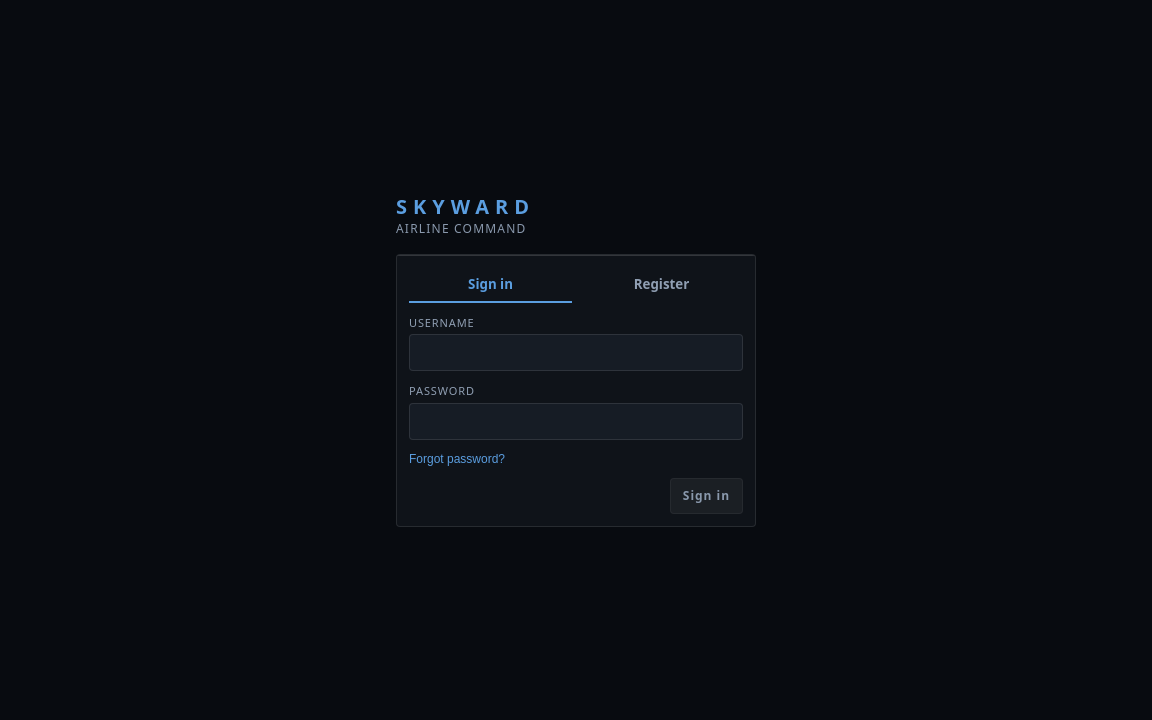
halaman login — dialog reset password › mengirim lima field API dan melaporkan sukses sebagai status
Step 1. Click the button "Forgot password?" → (457, 459), box [409,452,505,466]
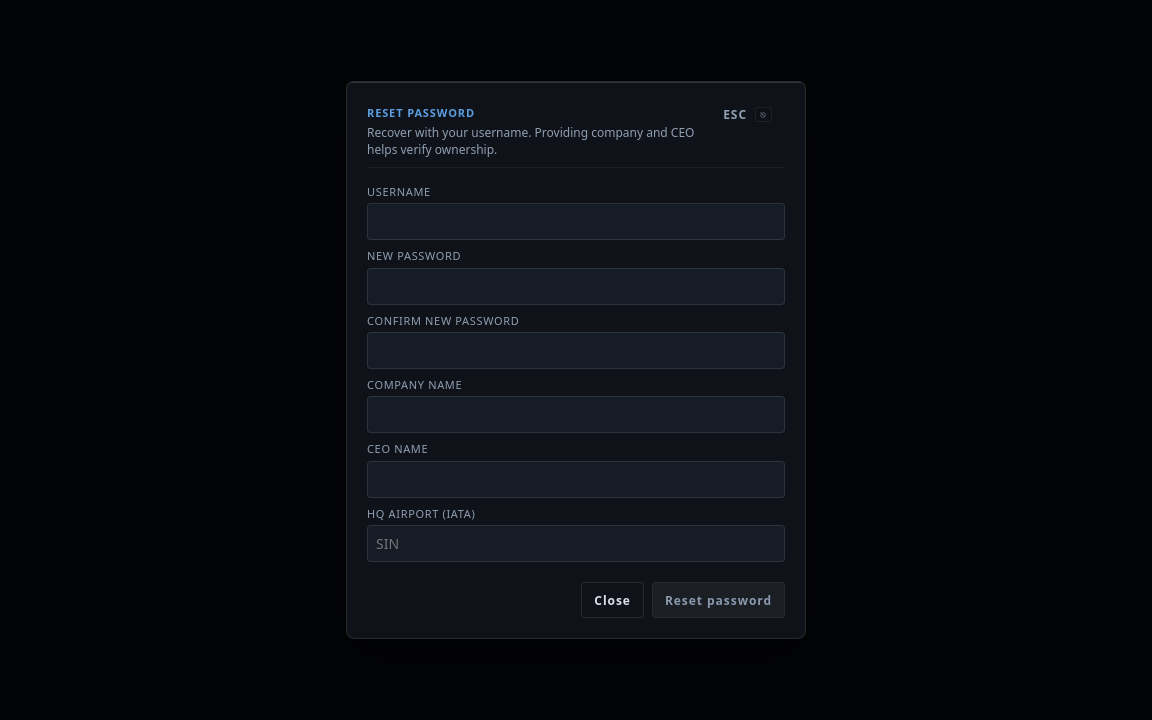
Step 2. Type "pilot" into the field labelled "Username" → (576, 222), box [367,203,785,240]
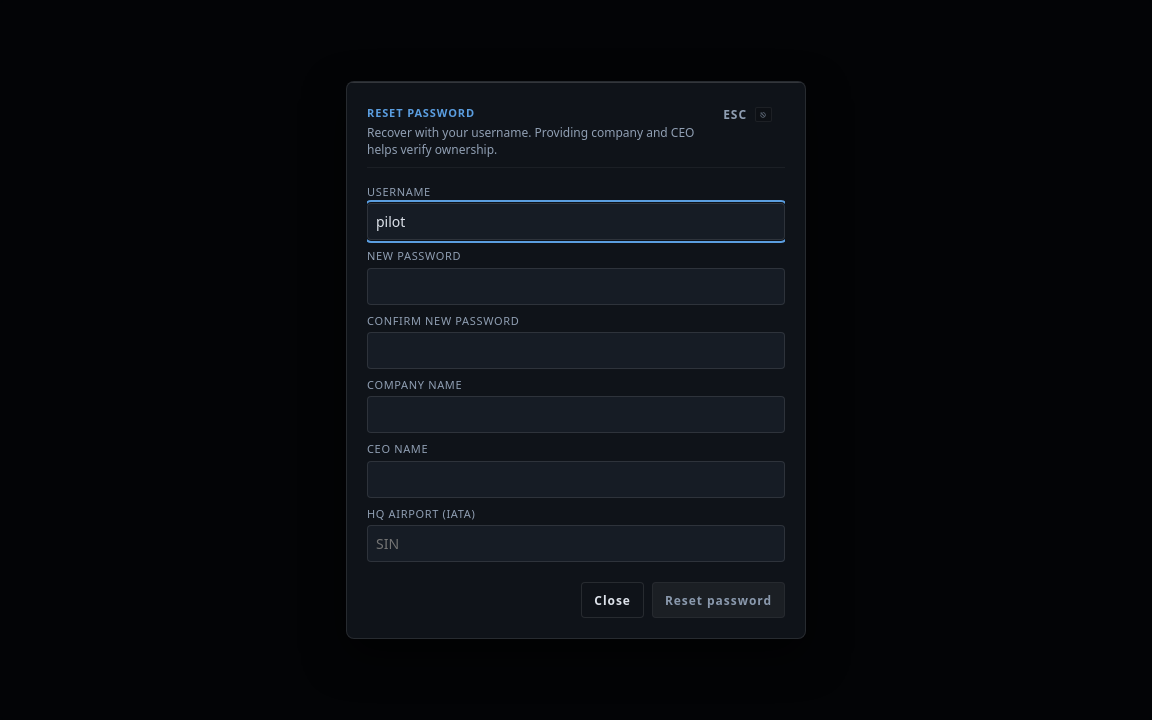
Step 3. Type "newpass123" into the password field labelled "New password" → (576, 286), box [367,268,785,305]
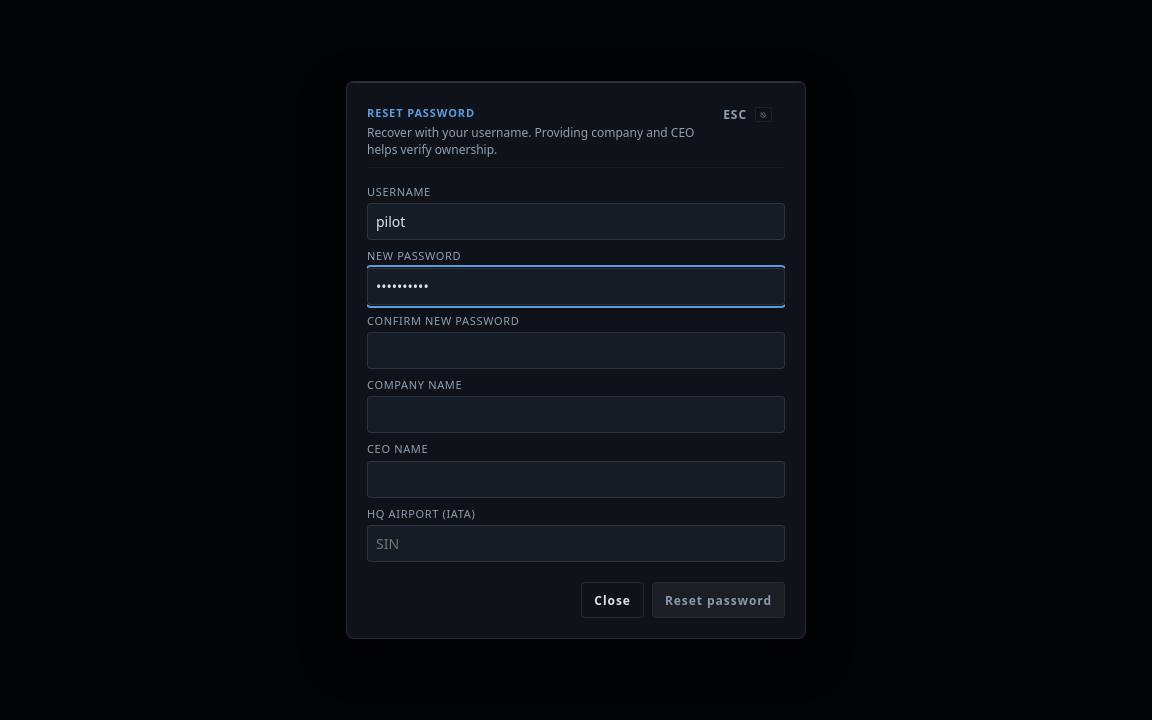
Step 4. Type "newpass123" into the password field labelled "Confirm new password" → (576, 351), box [367,332,785,369]
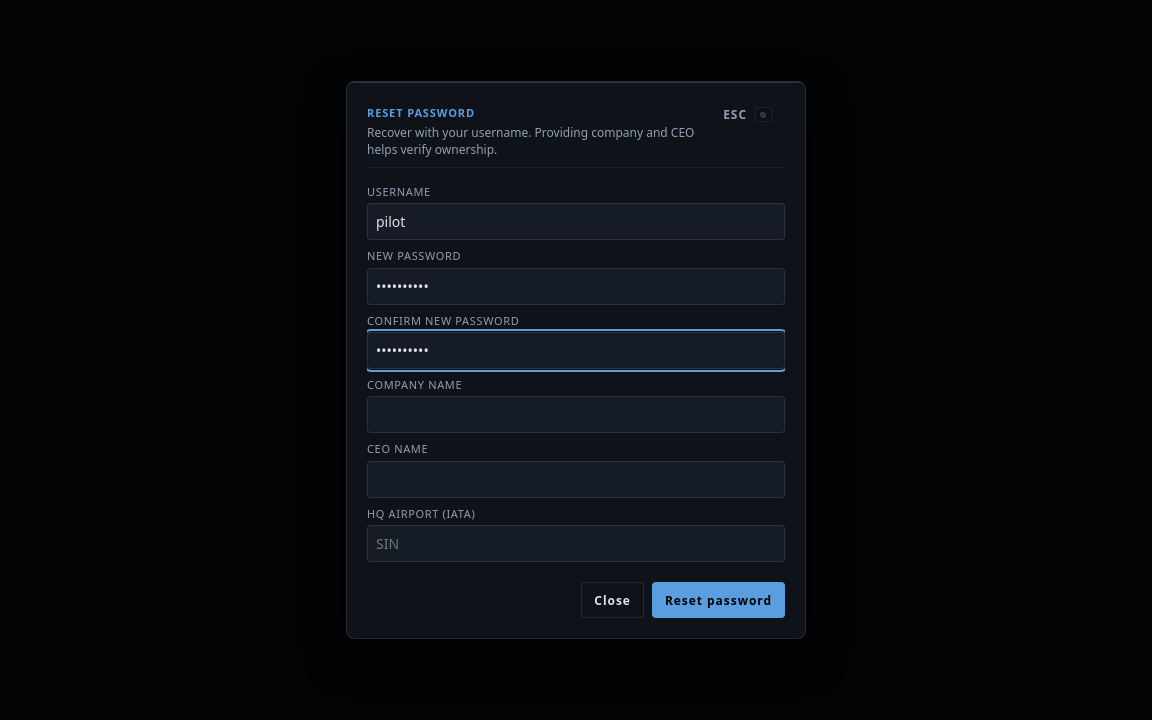
Step 5. Type "Skyward Air" into the field labelled "Company name" → (576, 415), box [367,396,785,434]
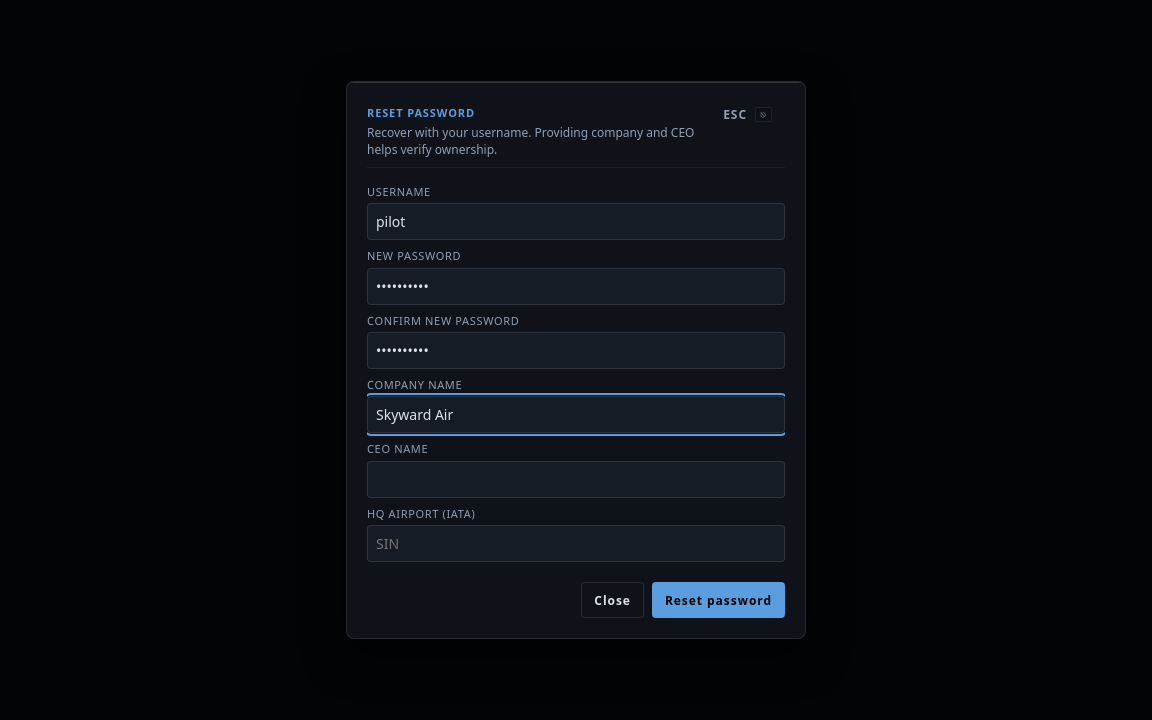
Step 6. Click the button "Reset password" → (718, 600), box [652,582,785,618]
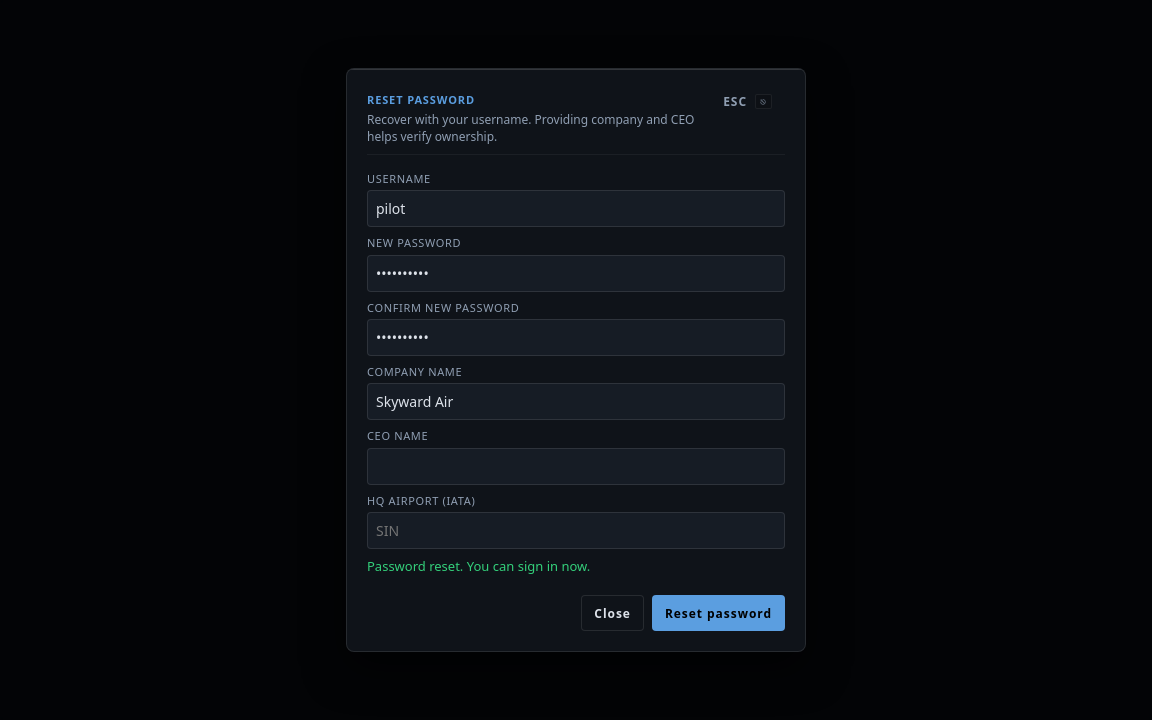
Expected: the message "Password reset. You can sign in now." is shown, [367,557,590,575]
